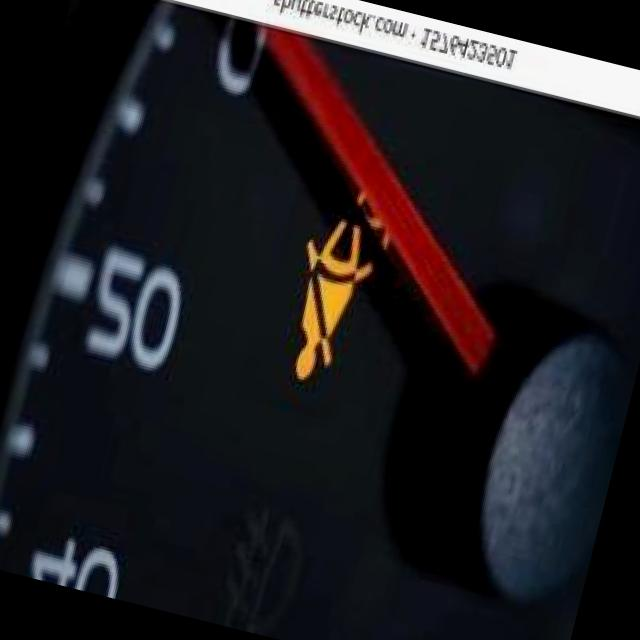kontrolka: (231, 202, 399, 424)
